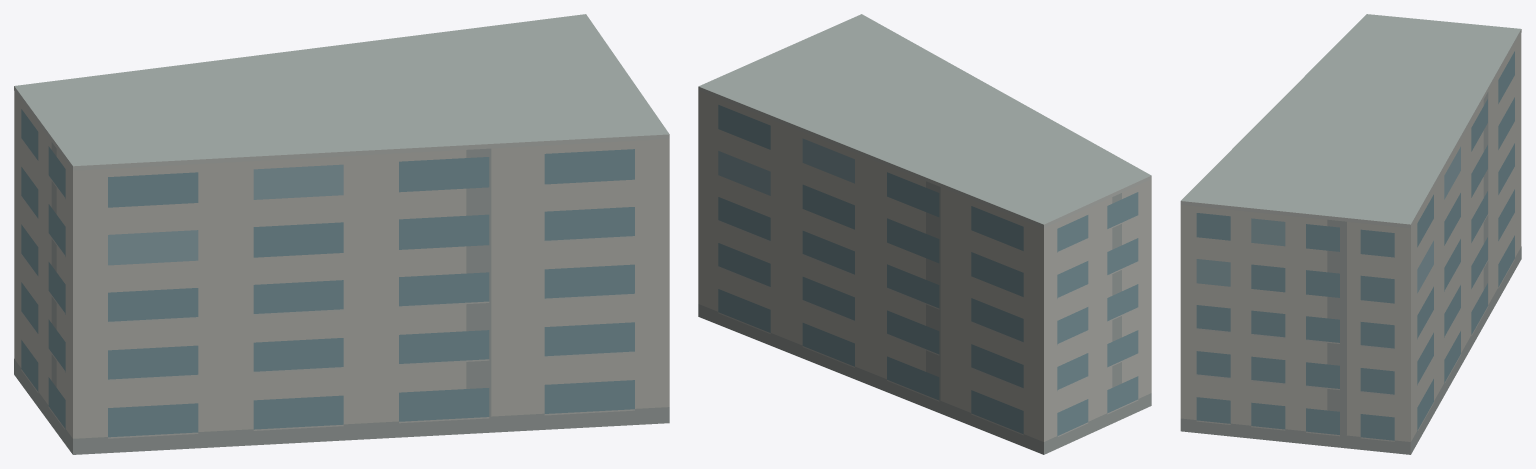
File: residential-ec086bfd-2ff3-4c36-9dab-f11a1265e387.glb
The picture shows the model from 3 angles, left to right: view 1: azimuth 30°, elevation 25°; view 2: azimuth 150°, elevation 25°; view 3: azimuth 270°, elevation 25°; orthographic projection. The views are drawn at different scales.
Visible parts, largest first — view 1: residential-ec086bfd-2ff3-4c36-9dab-f11a1265e387.tmp; view 2: residential-ec086bfd-2ff3-4c36-9dab-f11a1265e387.tmp; view 3: residential-ec086bfd-2ff3-4c36-9dab-f11a1265e387.tmp.
Boxes of the visible parts, bbox=[...] form: residential-ec086bfd-2ff3-4c36-9dab-f11a1265e387.tmp: bbox=[14, 14, 669, 454]; residential-ec086bfd-2ff3-4c36-9dab-f11a1265e387.tmp: bbox=[698, 14, 1151, 454]; residential-ec086bfd-2ff3-4c36-9dab-f11a1265e387.tmp: bbox=[1180, 14, 1521, 454].
Size of the model in its own units: 29.9 by 15.25 by 20.46.
